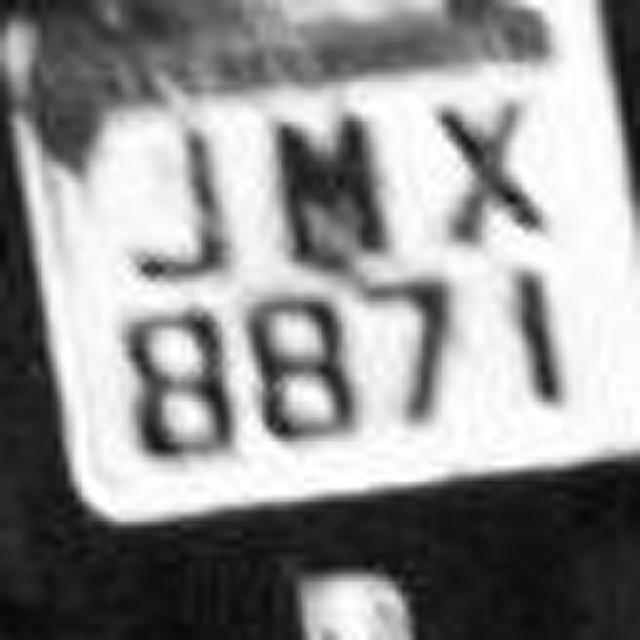1: (468, 260, 584, 445)
7: (349, 268, 476, 440)
8: (224, 256, 371, 456), (105, 264, 240, 468)
J: (109, 92, 256, 292)
M: (252, 85, 428, 280)
X: (416, 75, 572, 280)
